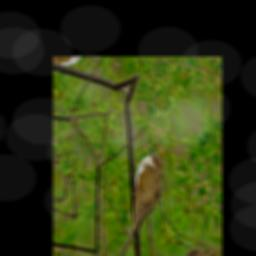Cuckoo: (91, 144, 180, 256)
